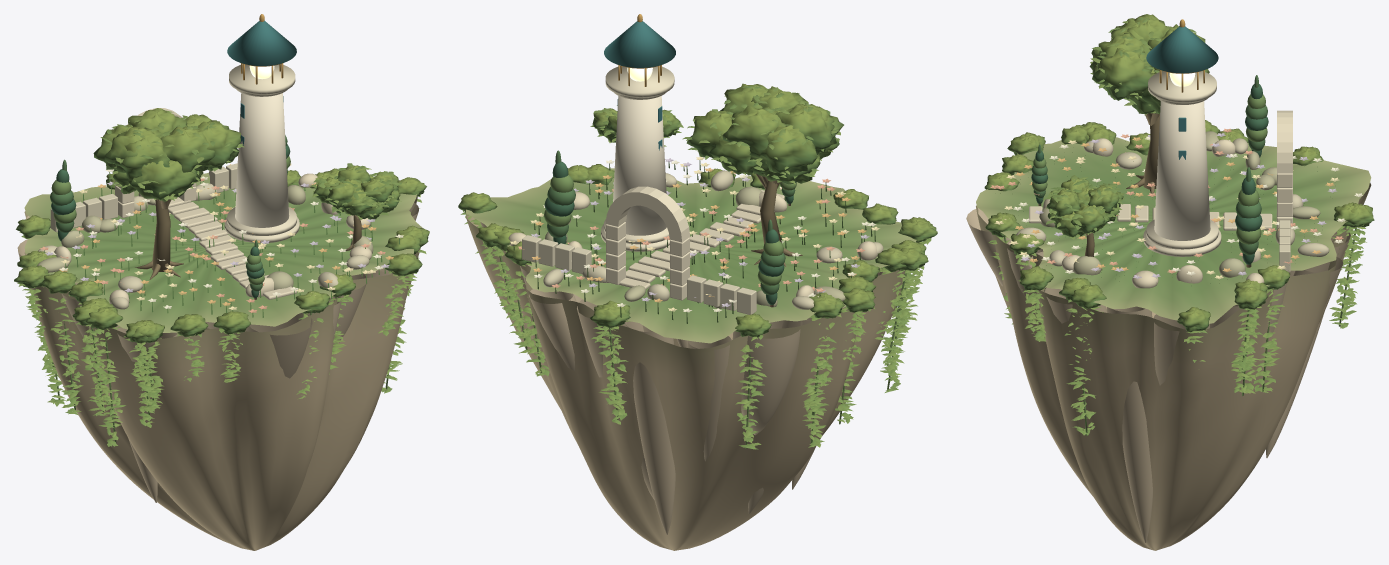
The model's file is lighthouse.glb.
3 renders of one model, left to right at view 1: azimuth 30°, elevation 25°; view 2: azimuth 150°, elevation 25°; view 3: azimuth 270°, elevation 25°, orthographic. The views are drawn at different scales.
Visible parts, largest first — view 1: lighthouse_fixed_Warm limestone, lighthouse_fixed_Garden foliage, lighthouse_fixed_Flower petals, lighthouse_fixed_Enamel, lighthouse_fixed_Oiled cedar; view 2: lighthouse_fixed_Warm limestone, lighthouse_fixed_Garden foliage, lighthouse_fixed_Flower petals, lighthouse_fixed_Enamel, lighthouse_fixed_Oiled cedar; view 3: lighthouse_fixed_Warm limestone, lighthouse_fixed_Garden foliage, lighthouse_fixed_Flower petals, lighthouse_fixed_Enamel, lighthouse_fixed_Oiled cedar.
Part boxes in pixels (x1,y1,x2,y2): lighthouse_fixed_Warm limestone: (17,64,420,550); lighthouse_fixed_Garden foliage: (14,108,429,446); lighthouse_fixed_Flower petals: (40,163,403,317); lighthouse_fixed_Enamel: (227,21,296,145); lighthouse_fixed_Oiled cedar: (135,199,361,299); lighthouse_fixed_Warm limestone: (466,66,917,550); lighthouse_fixed_Garden foliage: (458,83,937,449); lighthouse_fixed_Flower petals: (510,156,879,323); lighthouse_fixed_Enamel: (604,21,675,150); lighthouse_fixed_Oiled cedar: (751,173,802,307); lighthouse_fixed_Warm limestone: (966,71,1371,550); lighthouse_fixed_Garden foliage: (976,14,1374,435); lighthouse_fixed_Flower petals: (990,128,1362,283); lighthouse_fixed_Enamel: (1146,26,1218,159); lighthouse_fixed_Oiled cedar: (1038,113,1251,269).
Size of the model in its own units: 12.01 by 14.84 by 10.16.
